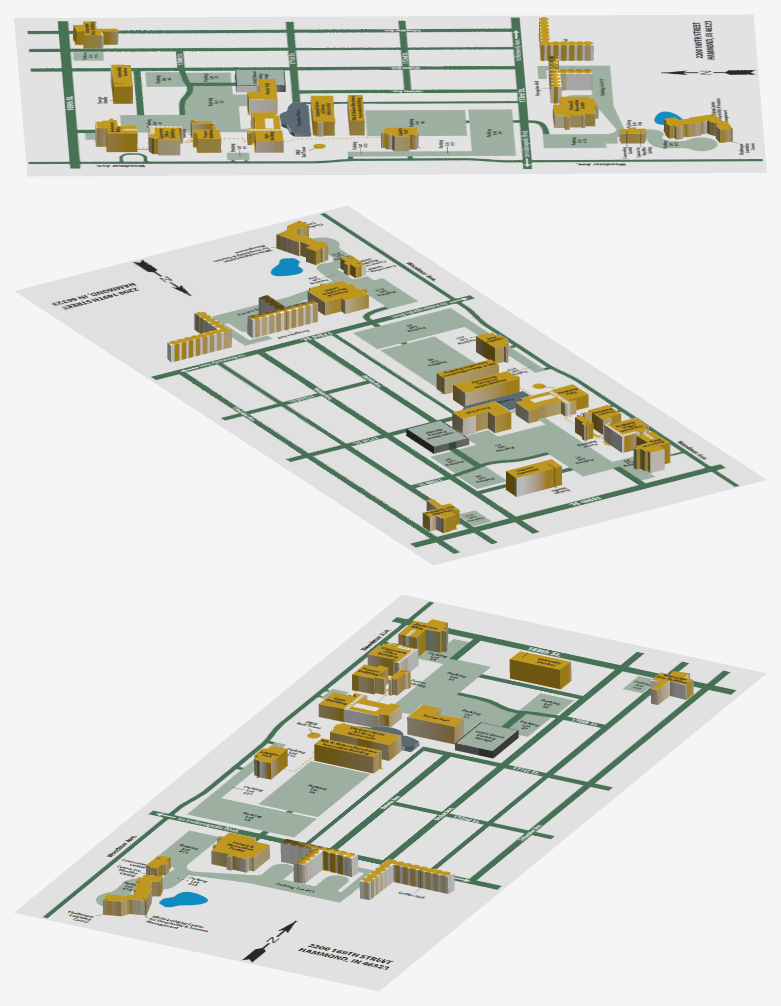
Rendered from Extruded_version.glb.
3 renders of one model, top to bottom at view 1: azimuth 30°, elevation 25°; view 2: azimuth 150°, elevation 25°; view 3: azimuth 270°, elevation 25°, orthographic. The views are drawn at different scales.
Parts seen in each view (by area): view 1: Hammond-Map-Lage; view 2: Hammond-Map-Lage; view 3: Hammond-Map-Lage.
Boxes of the visible parts, left/top/right/bottom form: Hammond-Map-Lage: left=14, top=14, right=766, bottom=176; Hammond-Map-Lage: left=14, top=205, right=766, bottom=565; Hammond-Map-Lage: left=14, top=594, right=766, bottom=991.
Bounding box in the file's own units: 10.82 × 0.3772 × 8.8.
Materials: 1 (1 with a texture image).
